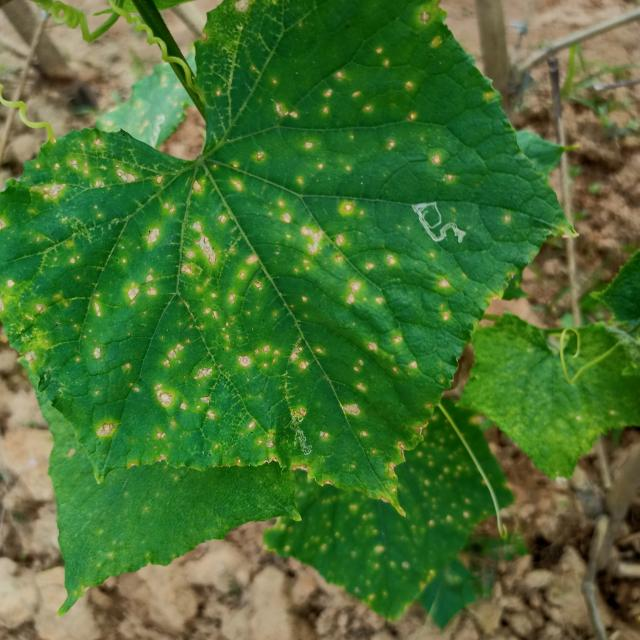disease_cucumber: (40, 29, 481, 474)
